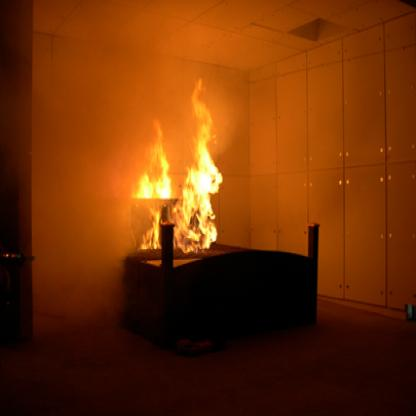fire: (132, 82, 226, 268)
smoke: (0, 0, 416, 323)
